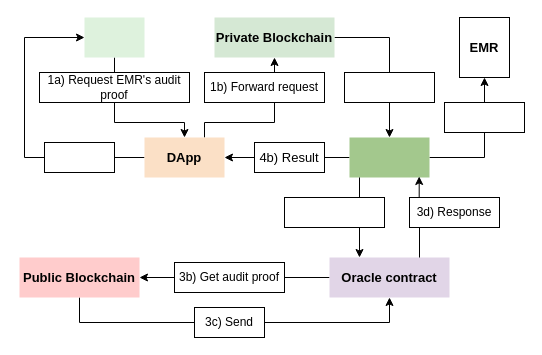
This 542x355 diagram has some shape labels left out. Each missing label, with the centre of its shape:
"2) Generate" belongs at (389,87).
"3a) Request data" belongs at (334,212).
"4a) Check()" belongs at (484,117).
"5) Notify" belongs at (79,157).
"Smart contract" belongs at (389,157).
"User" belongs at (114,37).
